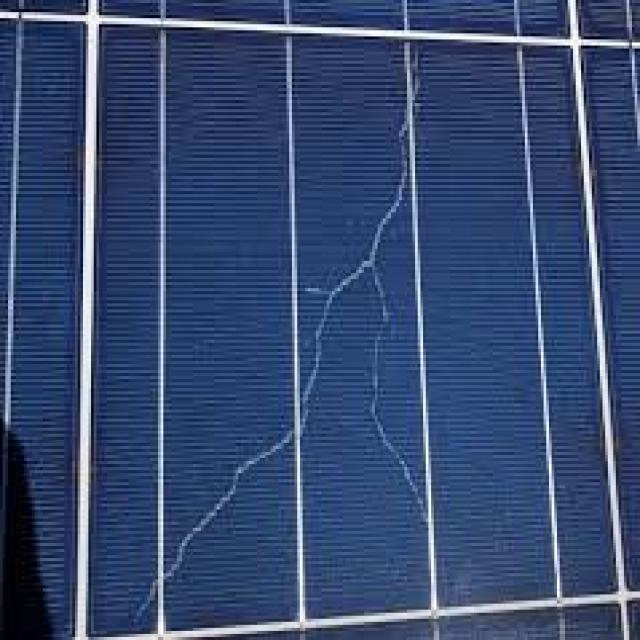faulty: (80, 14, 633, 638)
